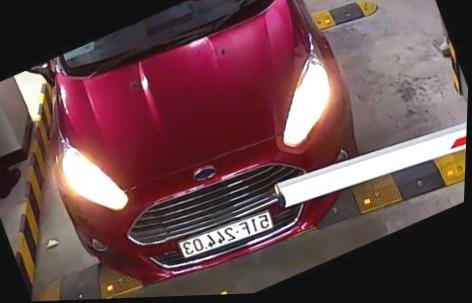License_Plate: (173, 203, 281, 260)
